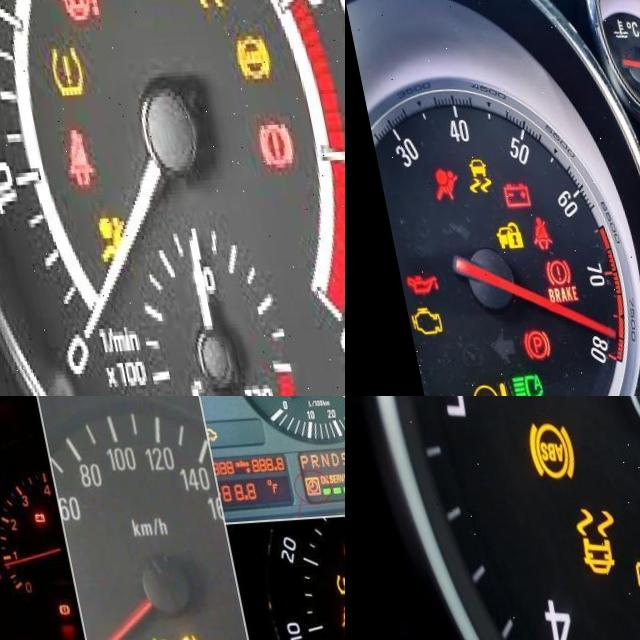Electronic Power Steering: (334, 548, 345, 569)
Electronic Power Steering Warning: (42, 0, 99, 26), (442, 380, 497, 396)
Seat Belt: (42, 126, 88, 187), (516, 217, 543, 253), (327, 610, 345, 637)
